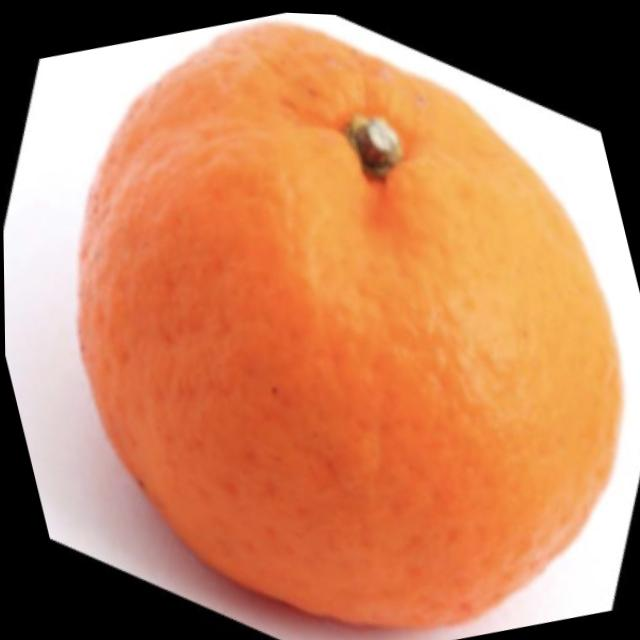Orange: (8, 0, 640, 640)
